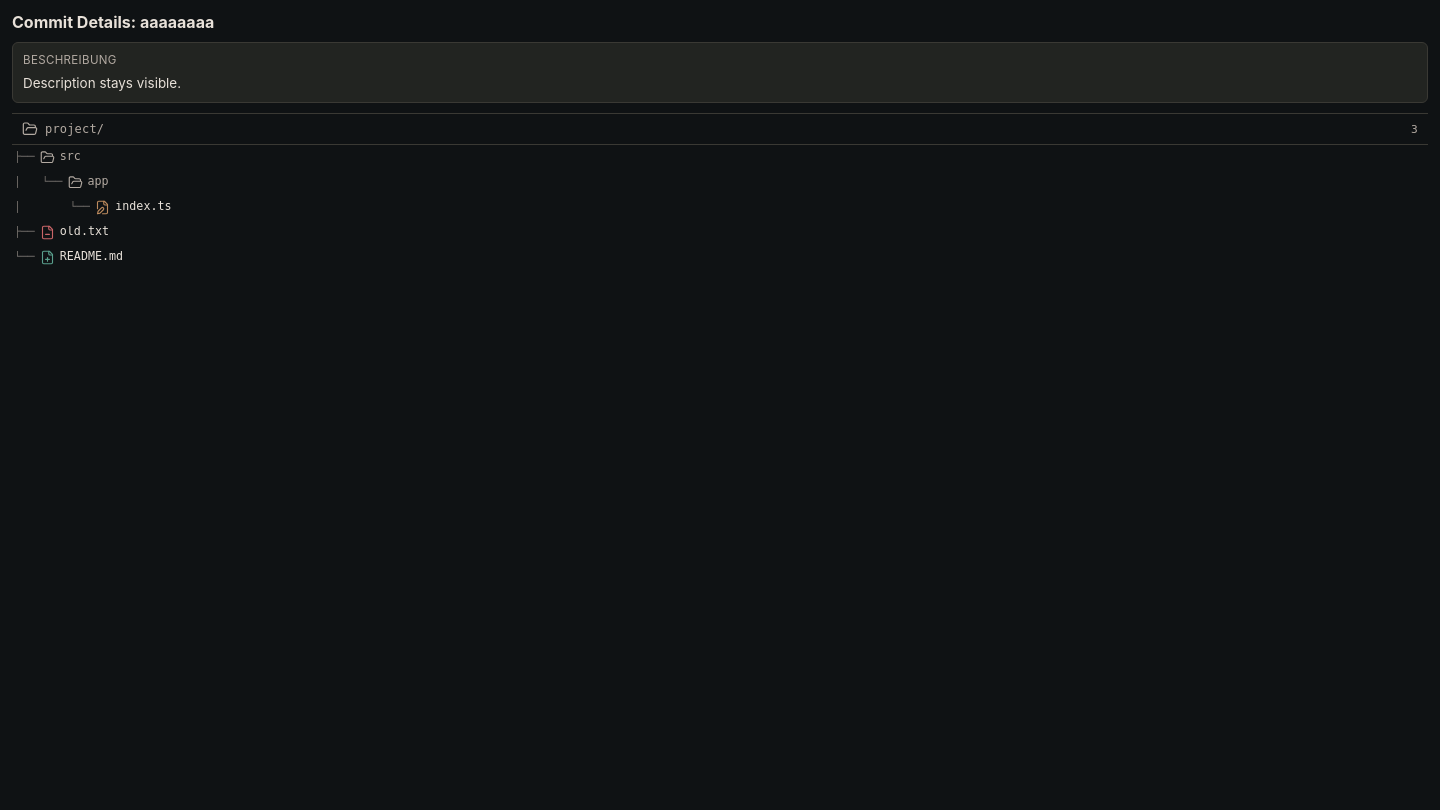
it: historical commit file tree integration › localizes file details and keeps deleted-file blame protection
Click the button "├── old.txt" at [84, 231], box [12,220,1428,245]
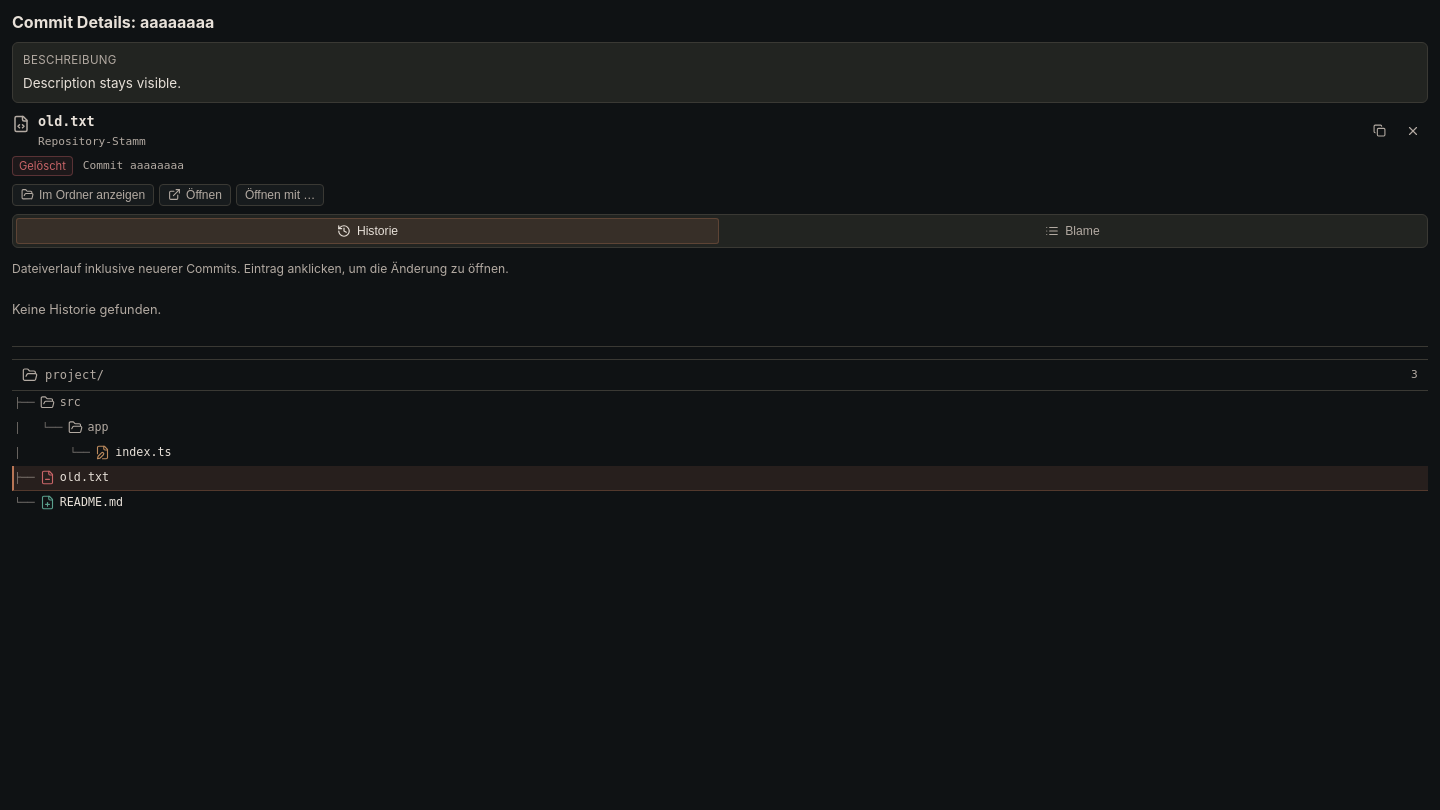
Check: the text with class "commit-file-details__status" reads "Gelöscht", box [19,159,66,173]
Check: the text with class "commit-file-details__path" reads "Repository-Stamm", box [38,135,146,148]
Check: the button named "Dateipfad kopieren" is shown, box [1365,116,1394,145]
Click the button "Blame" at [1072, 231], box [721,218,1424,244]
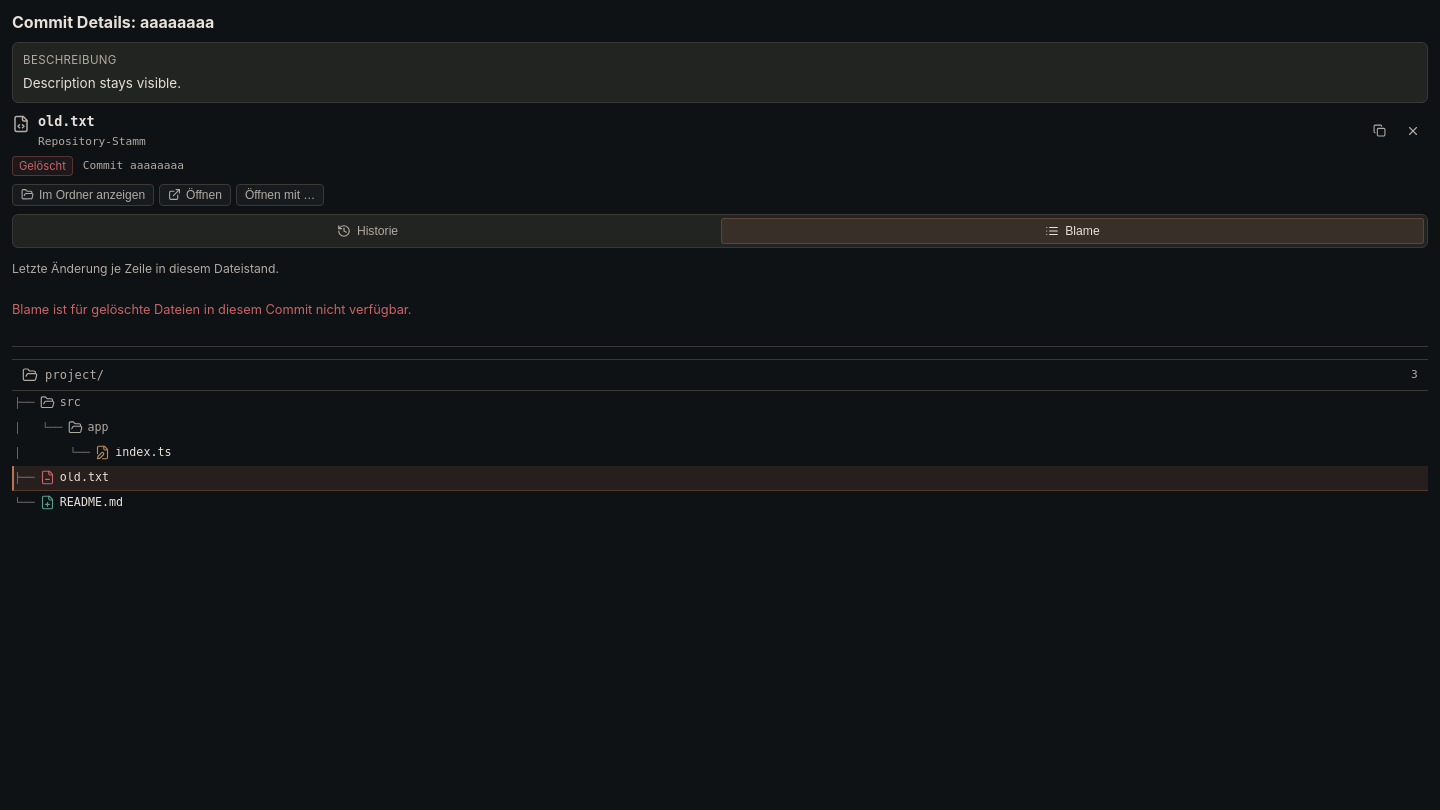
Check: the element with class "commit-file-tree" is shown, box [12,359,1428,593]
Check: the message "Blame ist für gelöschte Dateien in diesem Commit nicht verfügbar." is shown, box [12,302,412,317]
